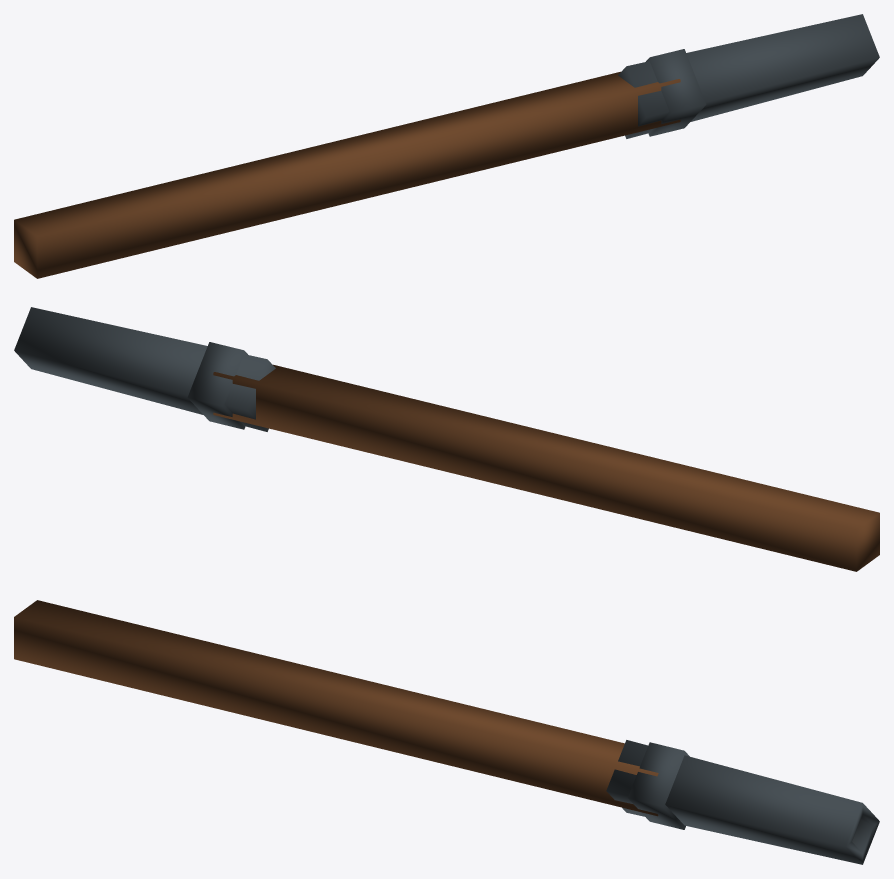
The model's file is early_handgonne_lod1.glb.
The picture shows the model from 3 angles, top to bottom: view 1: azimuth 30°, elevation 25°; view 2: azimuth 150°, elevation 25°; view 3: azimuth 330°, elevation 25°; orthographic projection.
Parts seen in each view (by area): view 1: WeaponMesh.001; view 2: WeaponMesh.001; view 3: WeaponMesh.001.
Part boxes in pixels (x1,y1,x2,y2): WeaponMesh.001: (14, 14, 879, 278); WeaponMesh.001: (14, 307, 879, 571); WeaponMesh.001: (14, 600, 879, 864).
Bounding box in the file's own units: 1.08 × 0.098 × 0.098.
